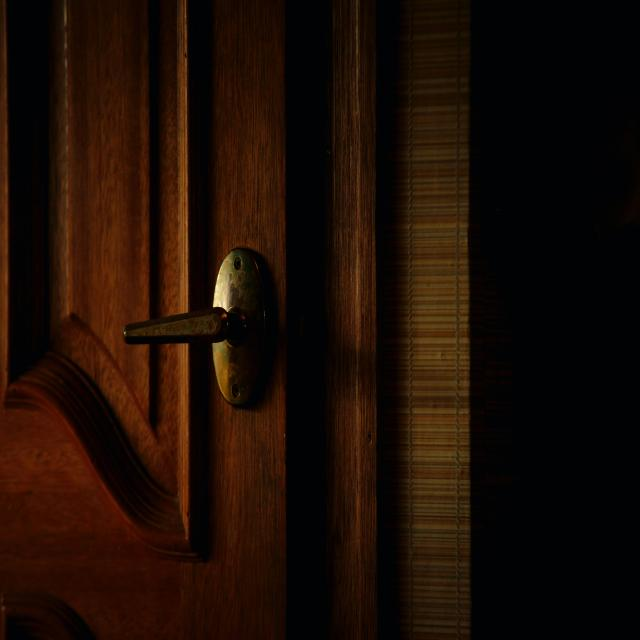door-handle: (123, 305, 247, 345)
